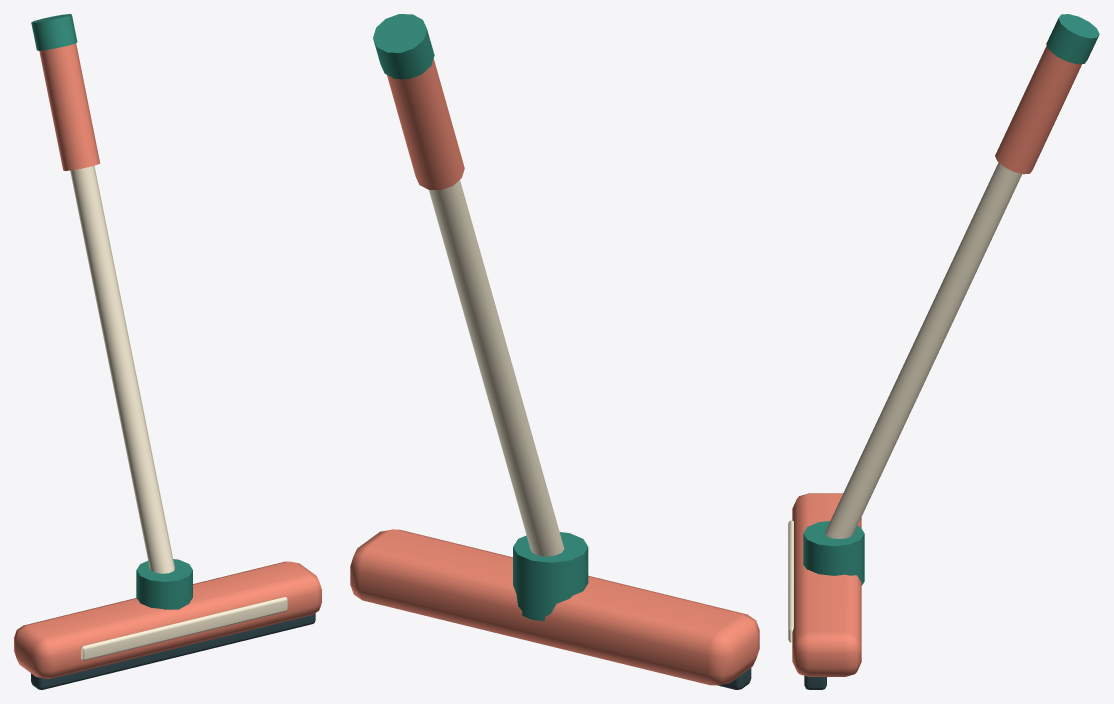
Rendered from squeegee.glb.
The picture shows the model from 3 angles, left to right: view 1: azimuth 30°, elevation 25°; view 2: azimuth 150°, elevation 25°; view 3: azimuth 270°, elevation 25°; orthographic projection. The views are drawn at different scales.
Visible parts, largest first — view 1: squeegee; view 2: squeegee; view 3: squeegee.
Boxes of the visible parts, box(x1,y1,x2,y2) form: squeegee: box(14, 14, 321, 689); squeegee: box(350, 14, 759, 689); squeegee: box(788, 14, 1099, 689).
Size of the model in its own units: 0.88 by 1.62 by 0.7626.
Materials: 1 (1 with a texture image).
